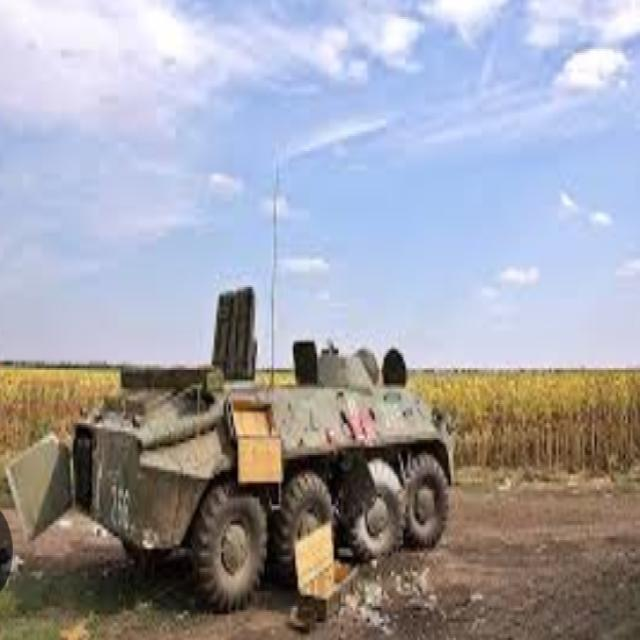MIL_APC: (59, 337, 462, 603)
